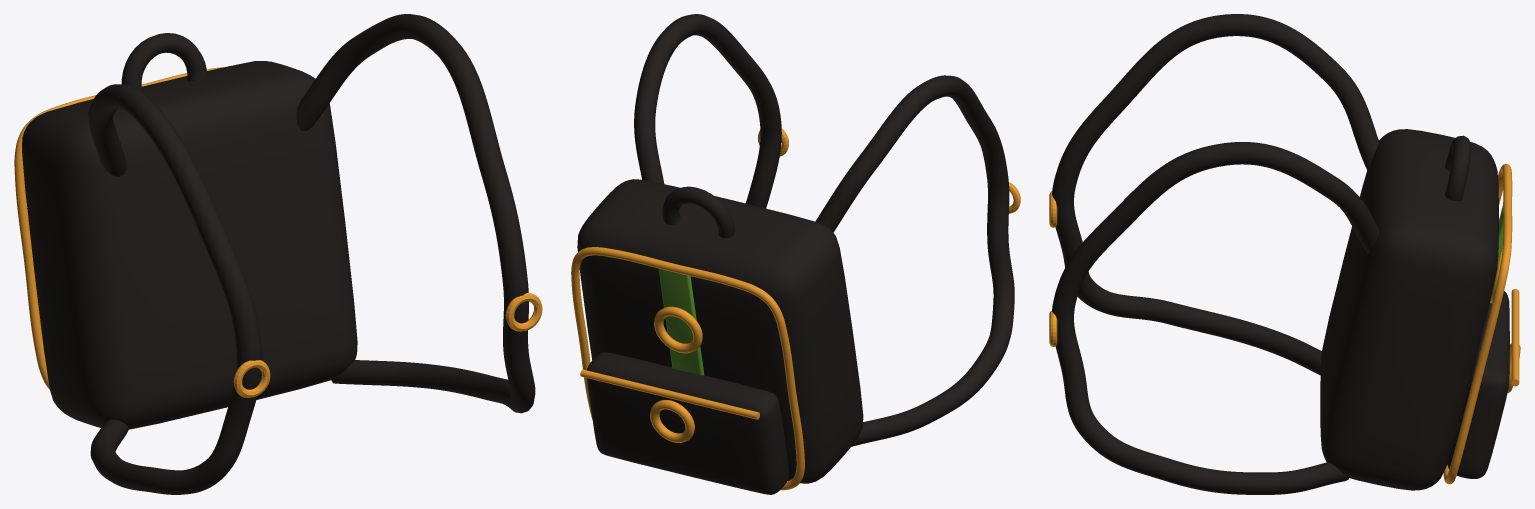
Rendered from mochila.glb.
The picture shows the model from 3 angles, left to right: view 1: azimuth 30°, elevation 25°; view 2: azimuth 150°, elevation 25°; view 3: azimuth 270°, elevation 25°; orthographic projection. The views are drawn at different scales.
Parts seen in each view (by area): view 1: mochila; view 2: mochila; view 3: mochila.
Part boxes in pixels (box(x1,y1,x2,y2)): mochila: box(14, 14, 542, 494); mochila: box(571, 14, 1020, 494); mochila: box(1049, 14, 1520, 494).
Bounding box in the file's own units: 0.7027 × 0.7174 × 0.835.
